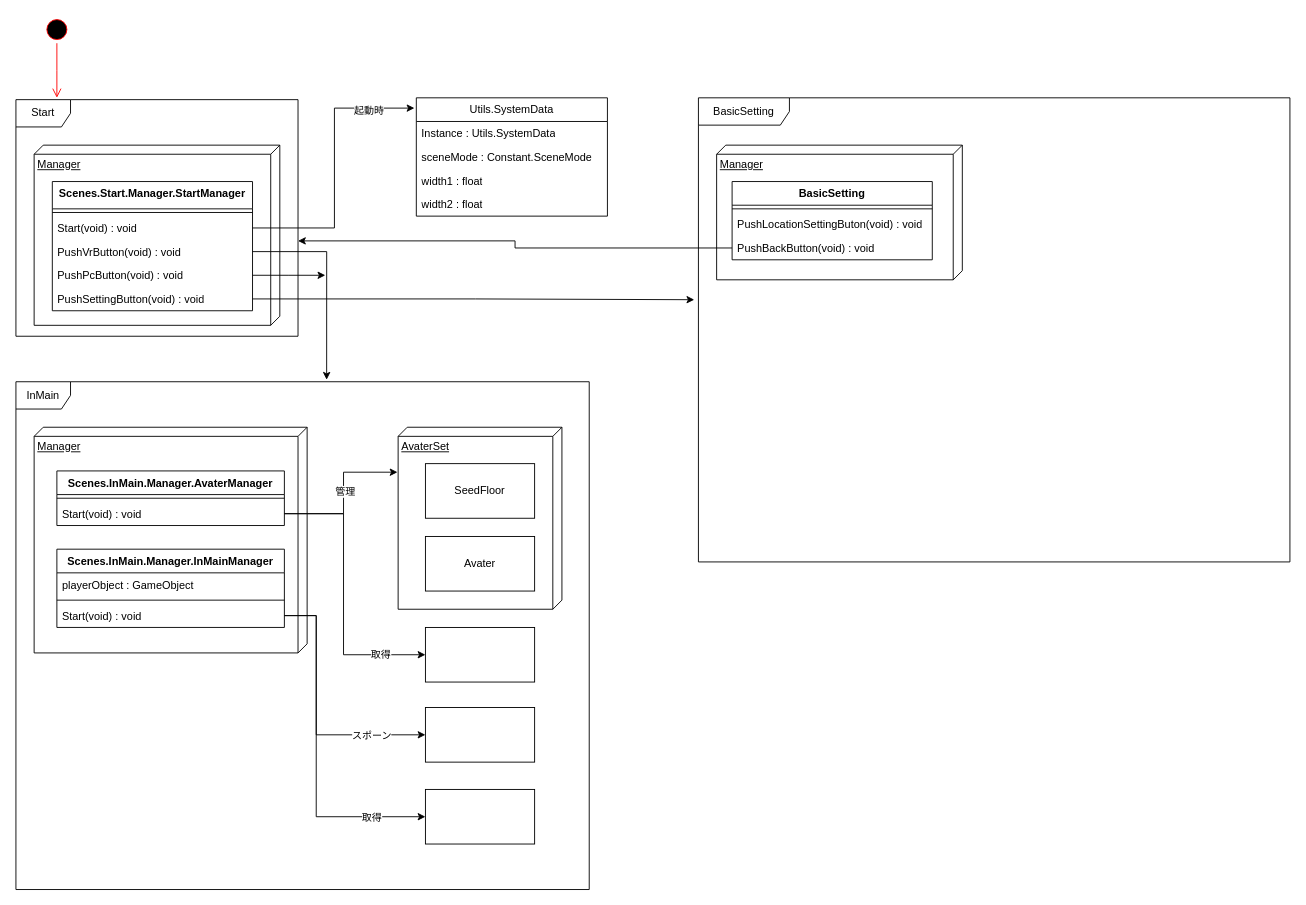
The diagram is 1306 pixels wide and 905 high, and some of its shapes have lost their labels. The shapes that lost their labels are listed below. From the top down, each one's centre as x and y in pixels, then its label:
point 480,654: MortonModel
point 480,734: PlayerObject PC and VR
point 480,816: PlayerPosition
